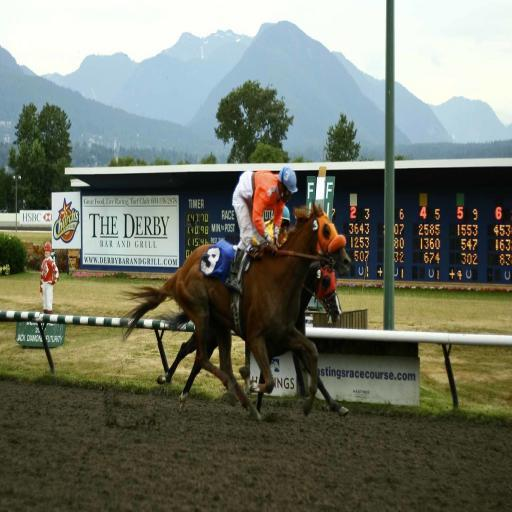Horse: (118, 196, 352, 421), (153, 258, 349, 414)
